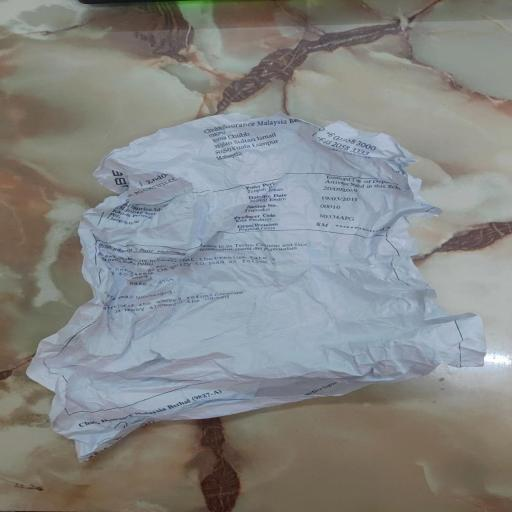paper: (27, 114, 484, 449)
